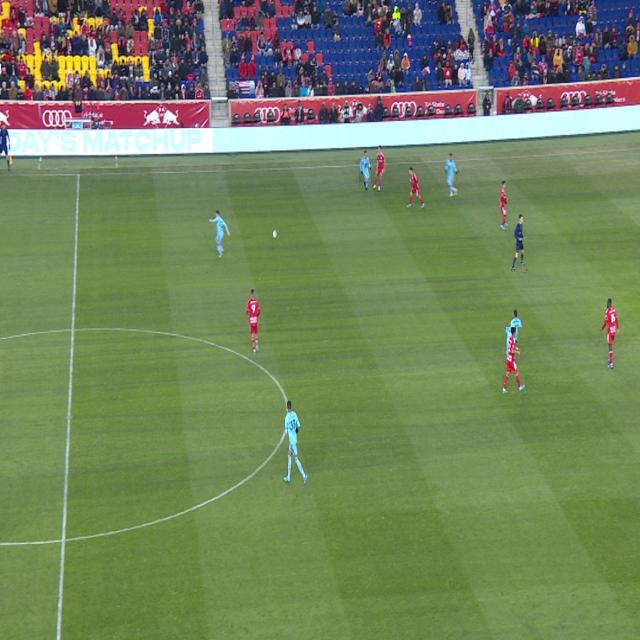football: (273, 229, 277, 239)
player: (283, 401, 307, 484), (503, 327, 525, 394), (600, 299, 619, 368), (209, 210, 230, 258), (246, 289, 261, 354), (407, 167, 425, 208), (372, 146, 386, 192), (510, 310, 523, 357), (445, 153, 458, 197), (360, 150, 371, 191), (500, 182, 508, 230)
referee: (512, 215, 526, 272)
